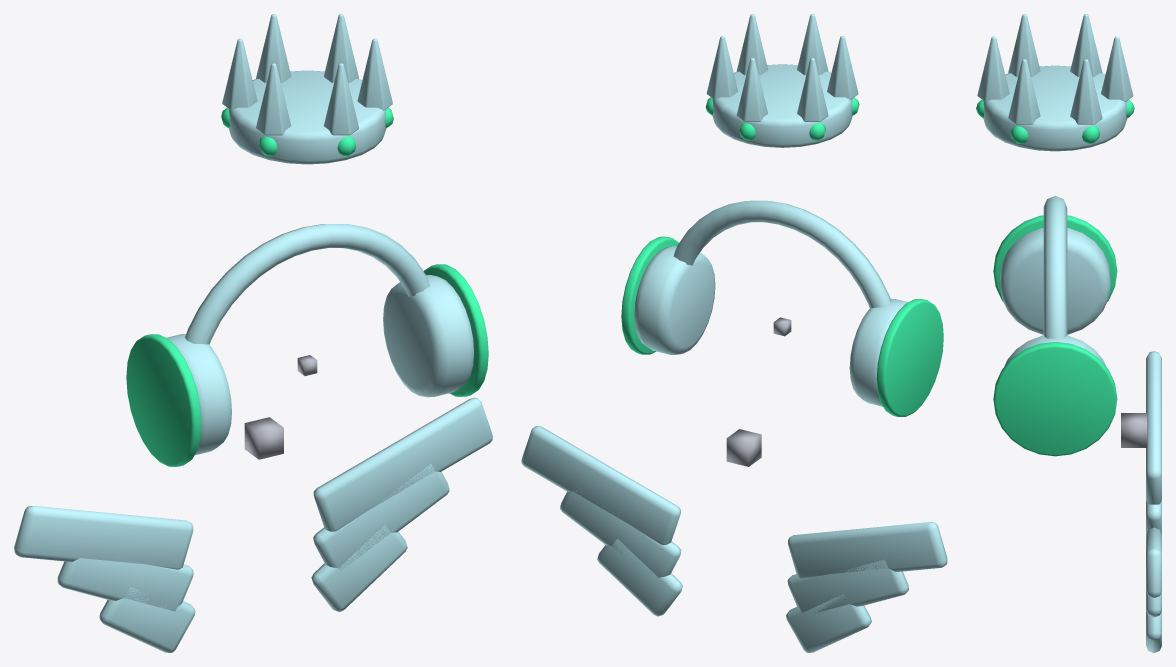
File: Ethereal.fbx
The picture shows the model from 3 angles, left to right: view 1: azimuth 30°, elevation 25°; view 2: azimuth 150°, elevation 25°; view 3: azimuth 270°, elevation 25°; orthographic projection. The views are drawn at different scales.
Parts seen in each view (by area): view 1: Crystal, Flap_Wing1_0, Flap_Wing-1_0, Float_Spin_CrownBand, Pulse_Ring-1, Flap_Wing1_1, Flap_Wing-1_1, Flap_Wing1_2, Flap_Wing-1_2, Pulse_Ring1, Float_Spin_CrownSpike2, Float_Spin_CrownSpike3 (+5 smaller); view 2: Crystal, Flap_Wing1_0, Flap_Wing-1_0, Float_Spin_CrownBand, Pulse_Ring-1, Flap_Wing-1_1, Flap_Wing1_1, Flap_Wing1_2, Flap_Wing-1_2, Pulse_Ring1, Float_Spin_CrownSpike0, Float_Spin_CrownSpike1 (+5 smaller); view 3: Pulse_Ring1, Crystal, Float_Spin_CrownBand, Flap_Wing-1_0, Pulse_Ring-1, Float_Spin_CrownSpike4, Float_Spin_CrownSpike5, Float_Spin_CrownSpike3, Float_Spin_CrownSpike0, Float_Spin_CrownSpike2, Float_Spin_CrownSpike1, Flap_Wing1_0 (+4 smaller).
Boxes of the visible parts, x1,y1,x2,y2 form: Crystal: [166, 224, 473, 455]; Flap_Wing1_0: [313, 397, 492, 531]; Flap_Wing-1_0: [14, 506, 193, 569]; Float_Spin_CrownBand: [228, 70, 386, 164]; Pulse_Ring-1: [126, 334, 201, 466]; Flap_Wing1_1: [313, 464, 449, 570]; Flap_Wing-1_1: [57, 557, 193, 611]; Flap_Wing1_2: [311, 525, 407, 611]; Flap_Wing-1_2: [99, 587, 195, 652]; Pulse_Ring1: [423, 264, 488, 396]; Float_Spin_CrownSpike2: [256, 63, 291, 135]; Float_Spin_CrownSpike3: [323, 63, 358, 135]; Crystal: [634, 200, 907, 406]; Flap_Wing1_0: [521, 426, 680, 544]; Flap_Wing-1_0: [788, 522, 947, 578]; Float_Spin_CrownBand: [712, 64, 852, 147]; Pulse_Ring-1: [876, 299, 943, 416]; Flap_Wing-1_1: [787, 559, 908, 613]; Flap_Wing1_1: [560, 489, 681, 577]; Flap_Wing1_2: [597, 539, 682, 616]; Flap_Wing-1_2: [786, 594, 871, 652]; Pulse_Ring1: [621, 236, 678, 354]; Float_Spin_CrownSpike0: [736, 58, 767, 121]; Float_Spin_CrownSpike1: [797, 58, 828, 121]; Pulse_Ring1: [993, 342, 1117, 456]; Crystal: [1000, 195, 1110, 366]; Float_Spin_CrownBand: [983, 65, 1127, 151]; Flap_Wing-1_0: [1146, 351, 1161, 504]; Pulse_Ring-1: [993, 215, 1117, 301]; Float_Spin_CrownSpike4: [1008, 59, 1040, 124]; Float_Spin_CrownSpike5: [1070, 59, 1102, 124]; Float_Spin_CrownSpike3: [977, 36, 1009, 101]; Float_Spin_CrownSpike0: [1101, 36, 1133, 101]; Float_Spin_CrownSpike2: [1008, 14, 1040, 76]; Float_Spin_CrownSpike1: [1070, 14, 1102, 76]; Flap_Wing1_0: [1146, 527, 1161, 597].
Bounding box in the file's own units: 3.82 × 4.84 × 1.41.
